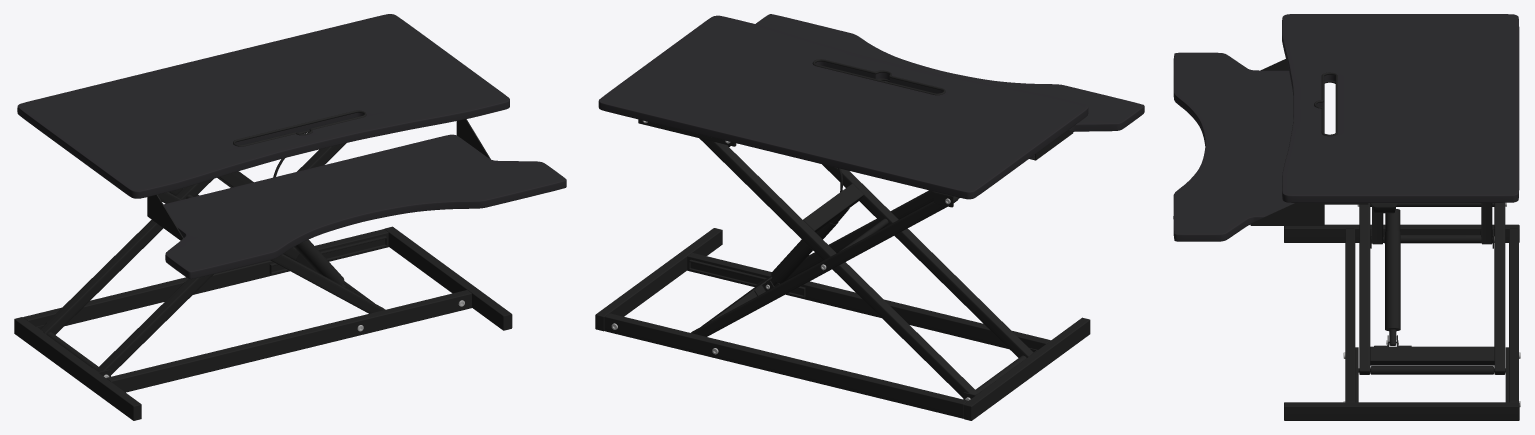
Rendered from comp-table-1.glb.
The picture shows the model from 3 angles, left to right: view 1: azimuth 30°, elevation 25°; view 2: azimuth 150°, elevation 25°; view 3: azimuth 270°, elevation 25°; orthographic projection.
Parts seen in each view (by area): view 1: polySurface186; view 2: polySurface186; view 3: polySurface186.
Part boxes in pixels (x1,y1,x2,y2): polySurface186: (14,14,566,420); polySurface186: (595,14,1144,420); polySurface186: (1173,14,1520,420).
Bounding box in the file's own units: 0.8001 × 0.4647 × 0.6446.
1 material, 1 textured.
